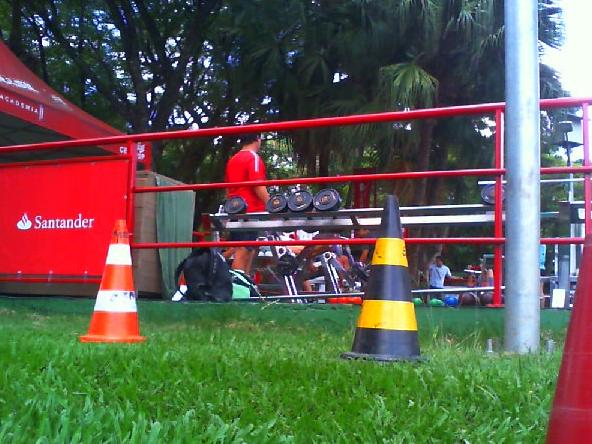0 cone: (336, 195, 425, 363), (533, 230, 592, 444), (80, 219, 143, 342)
